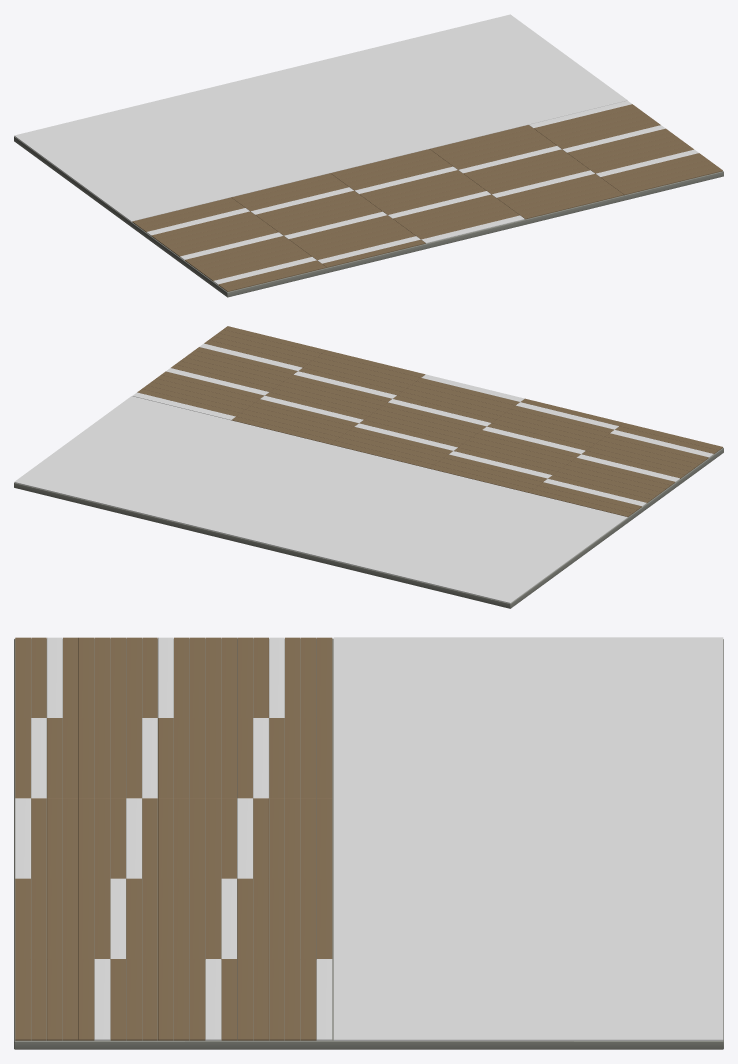
Rendered from Pawnshop_Floor62.fbx.
3 views of the same model, one above another, from view 1: azimuth 30°, elevation 25°; view 2: azimuth 150°, elevation 25°; view 3: azimuth 270°, elevation 25° (orthographic). The views are drawn at different scales.
Visible parts, largest first — view 1: Pawnshop_Floor62; view 2: Pawnshop_Floor62; view 3: Pawnshop_Floor62.
Boxes of the visible parts, left/top/right/bottom form: Pawnshop_Floor62: left=14, top=14, right=723, bottom=297; Pawnshop_Floor62: left=14, top=326, right=723, bottom=608; Pawnshop_Floor62: left=14, top=637, right=723, bottom=1049.
Bounding box in the file's own units: 1566 × 18.45 × 1166.
